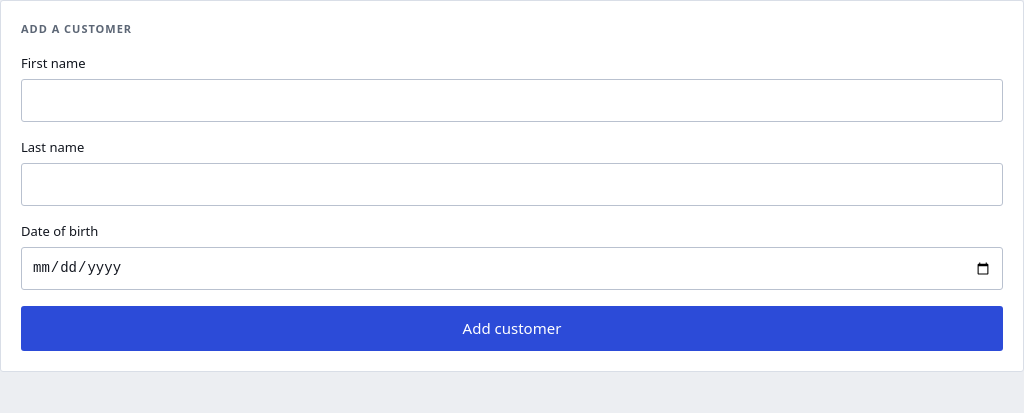
Test: CustomerForm › places a server field error next to the field that caused it
The image size is (1024, 413).
Type "Jane" into the field labelled "First name" at point(512, 100), box [21,79,1003,122]
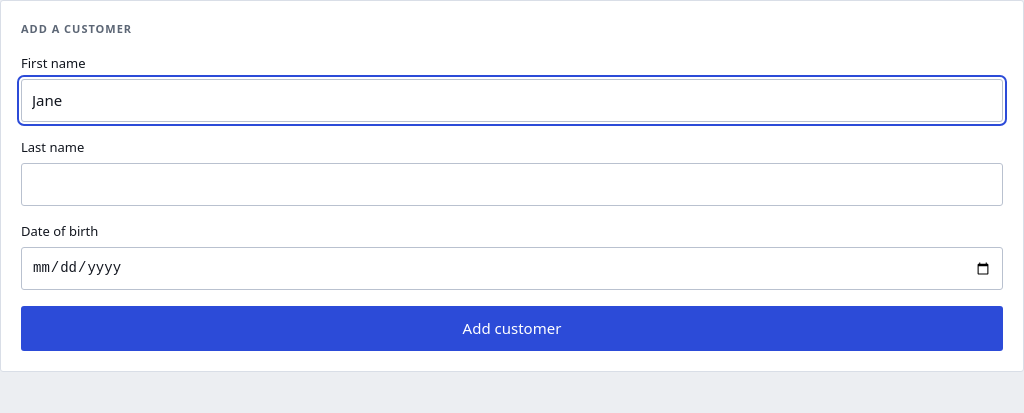
Type "Doe" into the field labelled "Last name" at point(512, 184), box [21,163,1003,206]
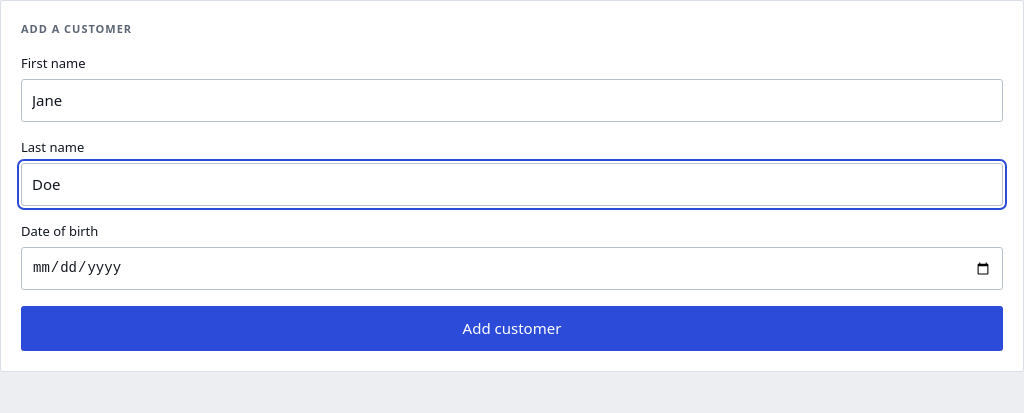
Type "1990-04-17" into the date field labelled "Date of birth" at point(512, 268), box [21,247,1003,290]
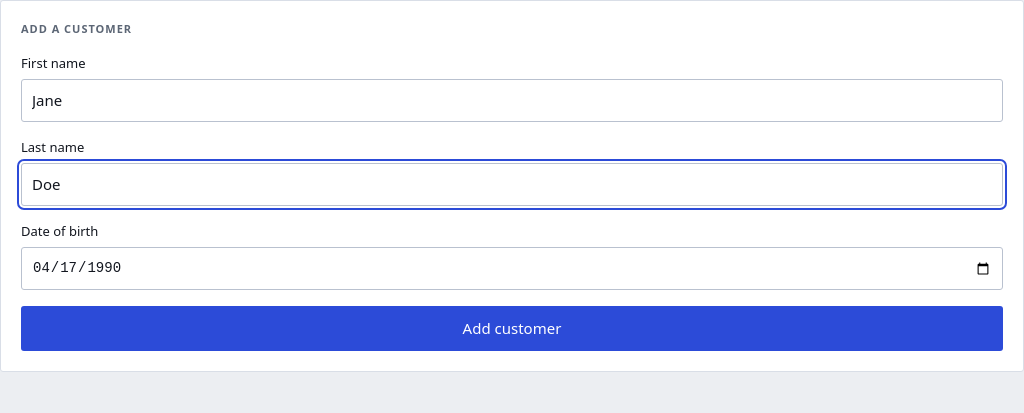
Click the button "Add customer" at point(512, 328), box [21,306,1003,350]
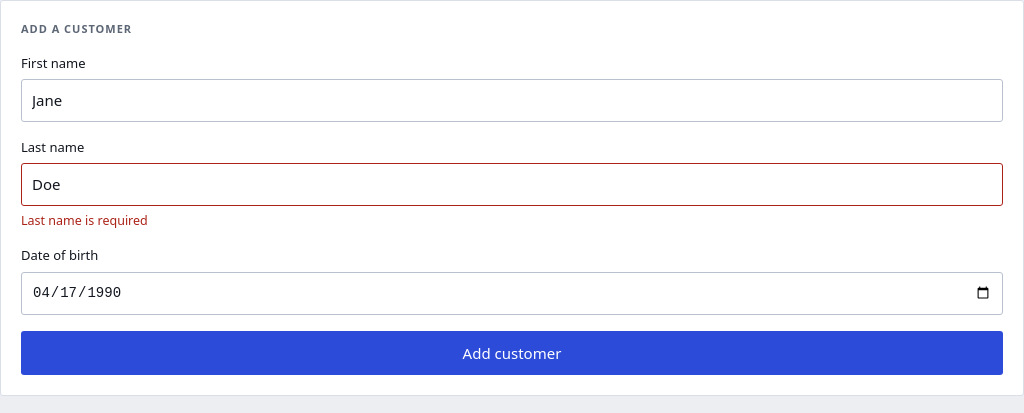
Expected: the text "Last name is required" is shown, [21,212,148,228]
